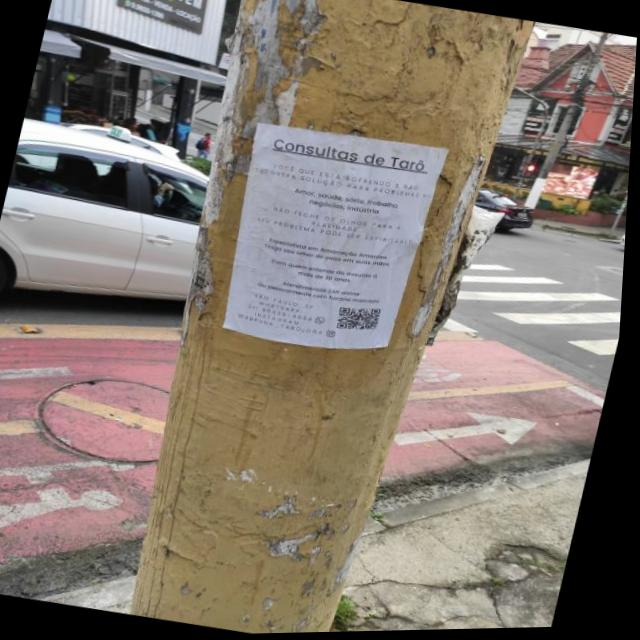qrcode: (340, 305, 385, 337)
